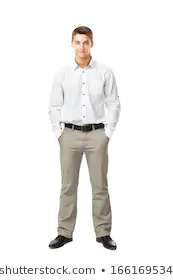F_belt: (61, 121, 107, 131)
F_dress pants: (56, 120, 112, 237)
F_shirt: (48, 57, 117, 143)
